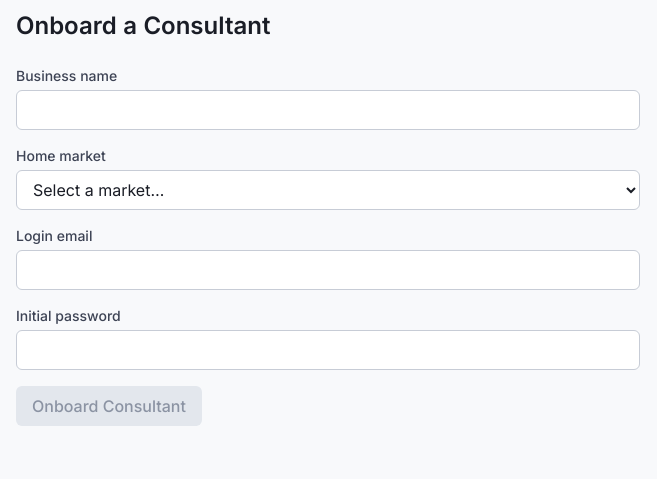
it: ConsultantOnboardingWizard › error state: shows a retry-worthy message when the KYC rules fetch fails
This screenshot has width=657, height=479.
Select "India" in the dropdown labelled "Home market" at (328, 190), box [16,170,640,210]
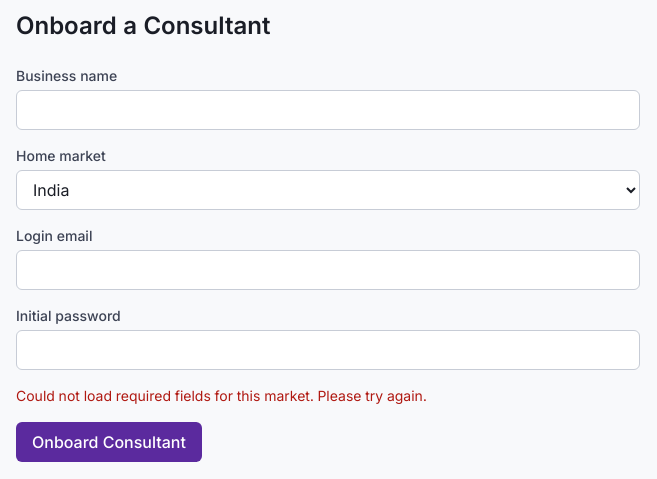
Result: the message shows "Could not load required fields" at [16,387,427,404]
